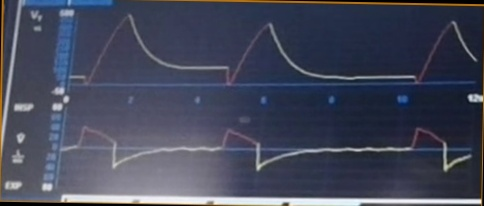Flow: (64, 122, 471, 188)
Leakage Volume: (73, 14, 477, 91)
